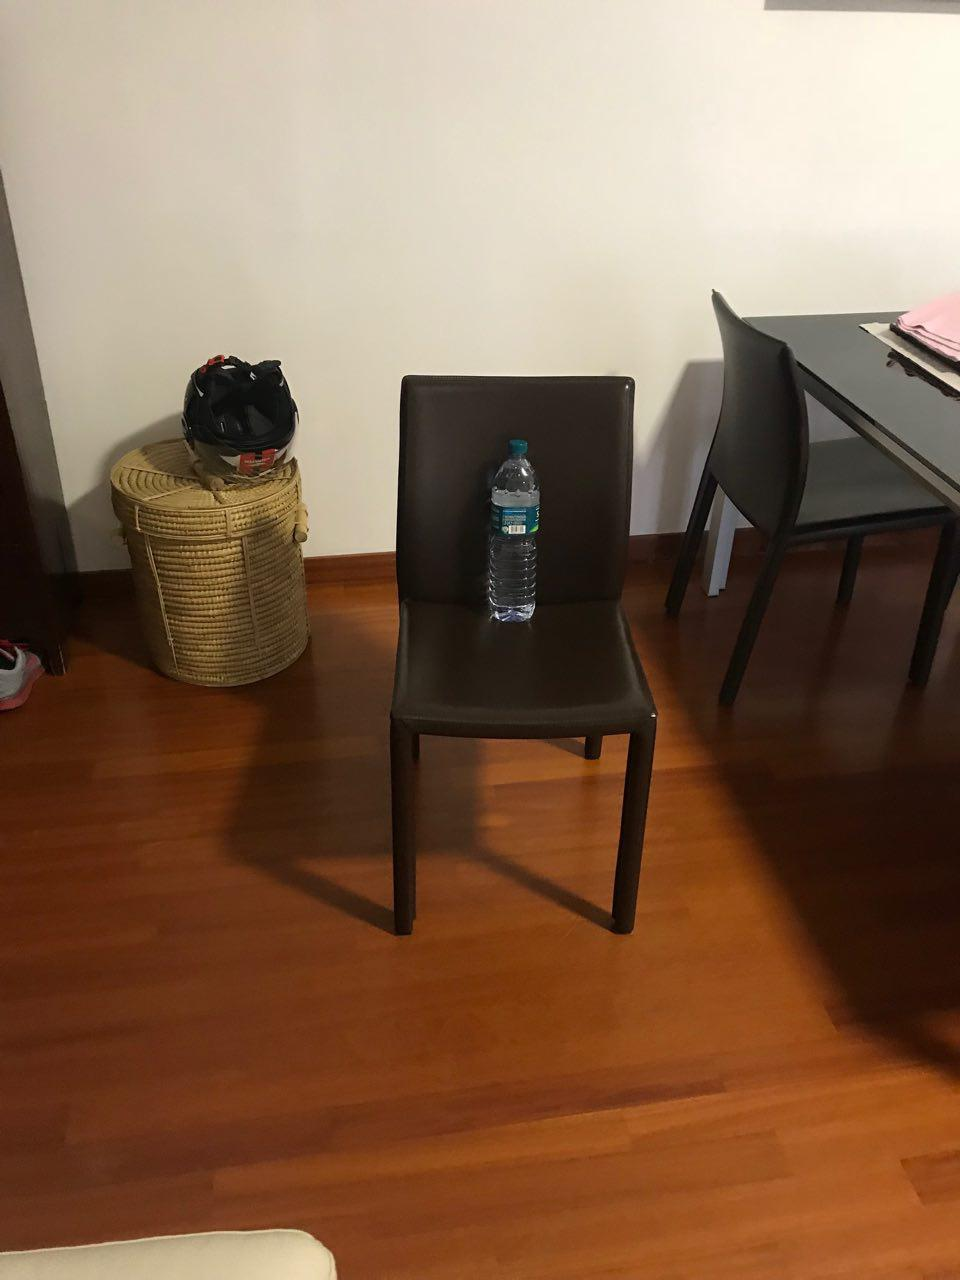san_bernardo: (487, 438, 541, 622)
